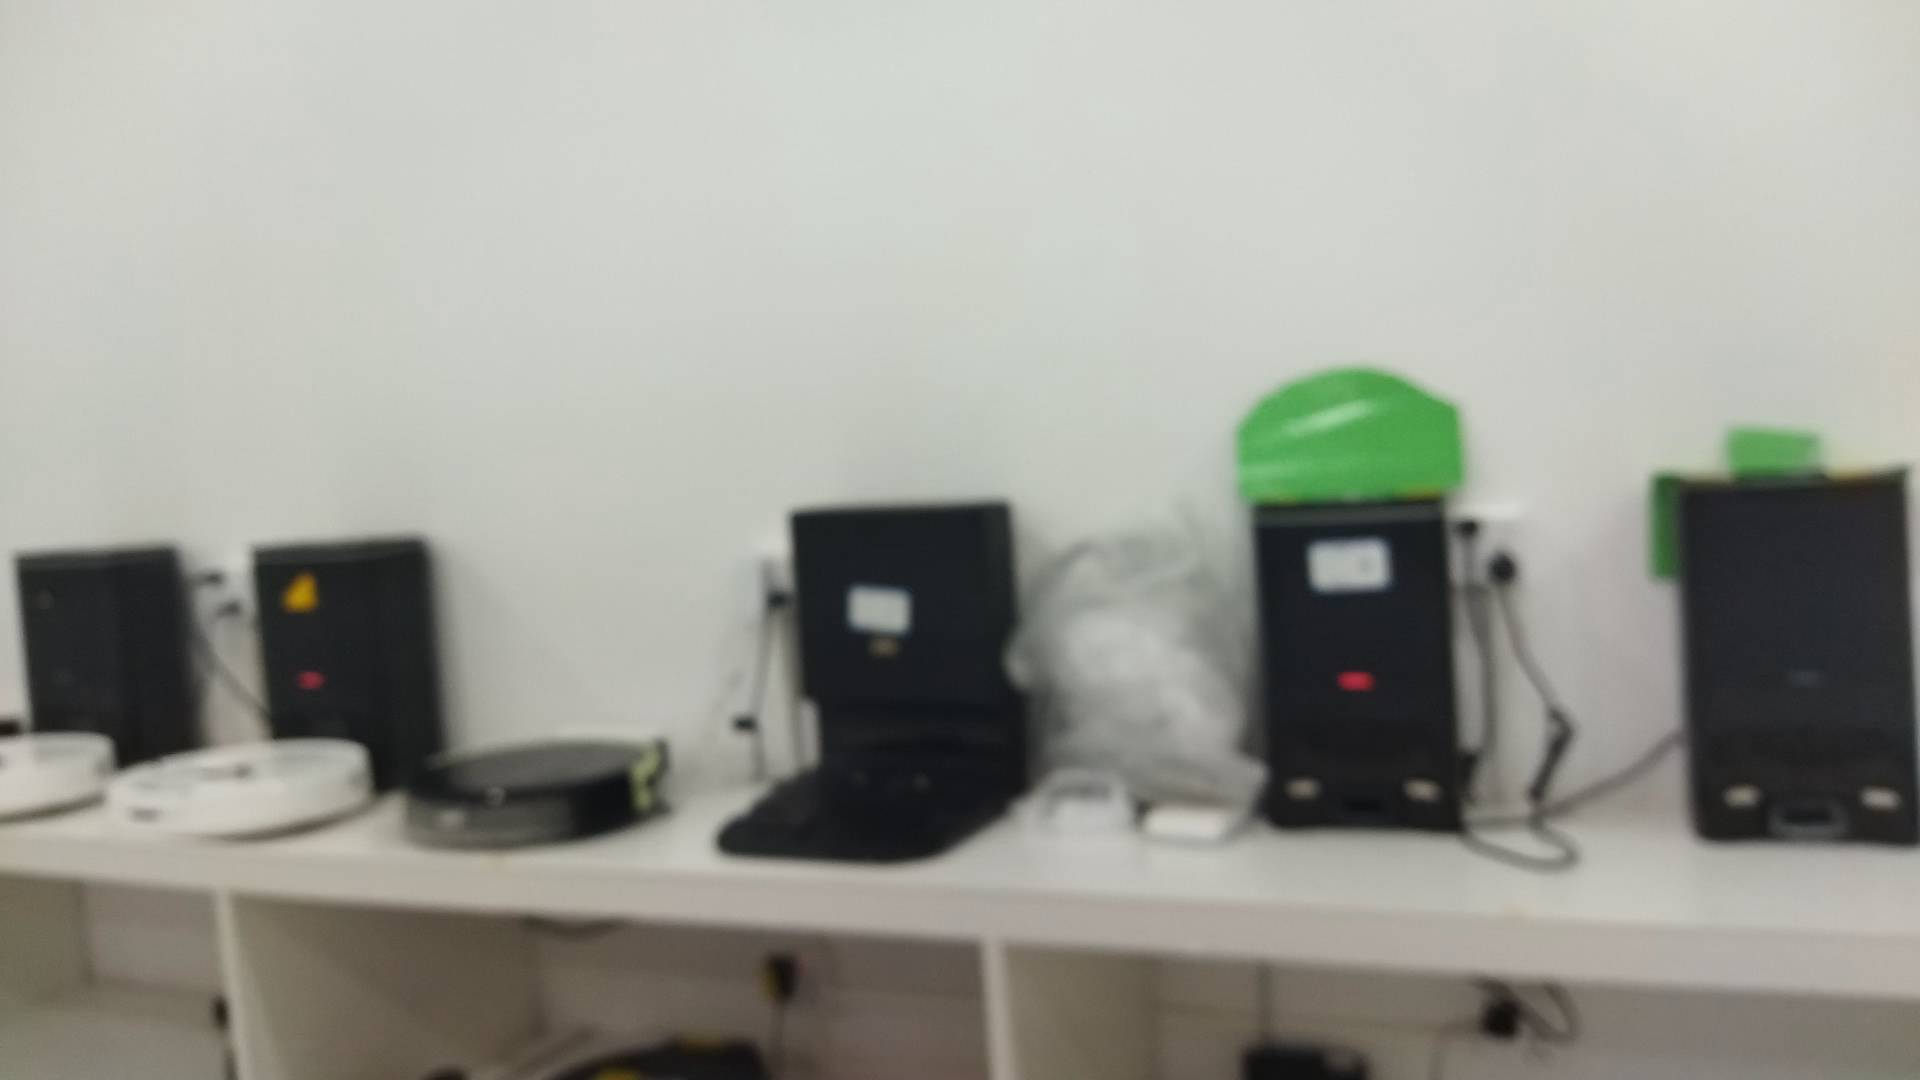dust collecting barrel: (715, 500, 1030, 865), (1677, 471, 1920, 847), (1254, 500, 1465, 832), (253, 538, 440, 789), (18, 547, 198, 767)
